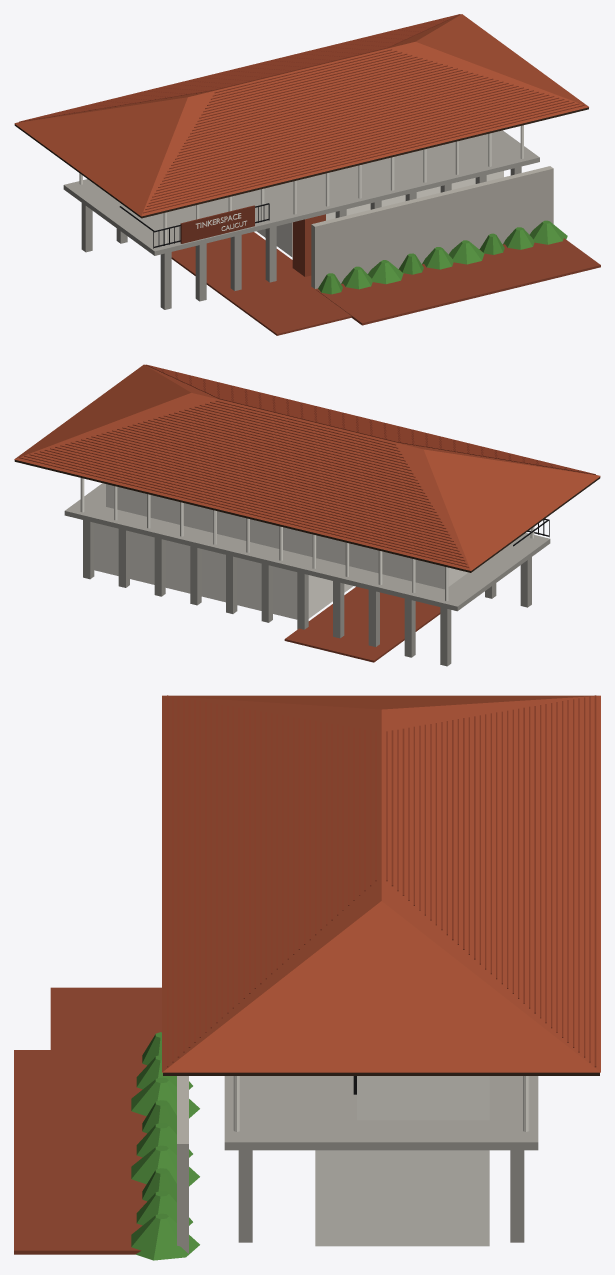
The model's file is tinkerspace.glb.
The picture shows the model from 3 angles, top to bottom: view 1: azimuth 30°, elevation 25°; view 2: azimuth 150°, elevation 25°; view 3: azimuth 270°, elevation 25°; orthographic projection. The views are drawn at different scales.
Parts seen in each view (by area): view 1: tinkerspace; view 2: tinkerspace; view 3: tinkerspace.
Boxes of the visible parts, x1,y1,x2,y2 form: tinkerspace: (14,14,600,335); tinkerspace: (14,364,600,666); tinkerspace: (14,695,600,1260).
Bounding box in the file's own units: 25.6 × 9.1 × 16.85.
